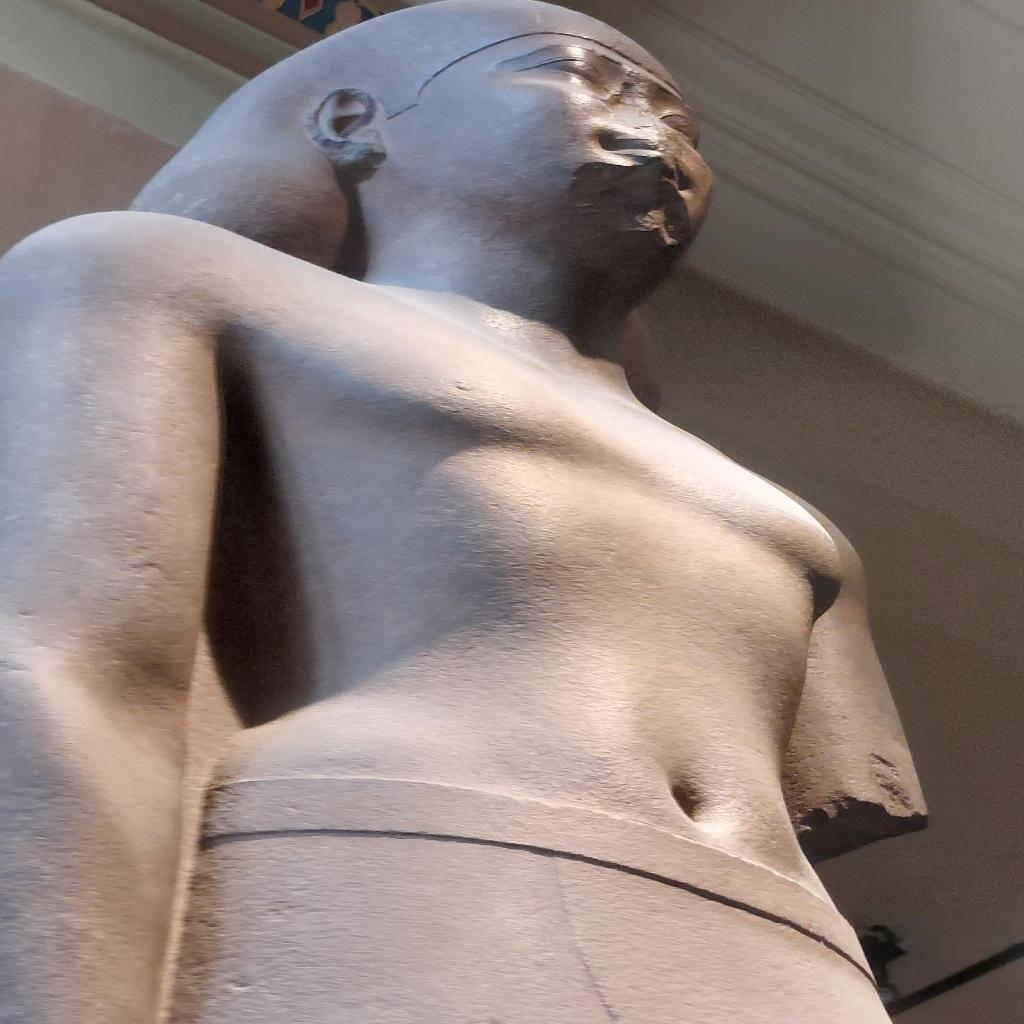Colossal Statue of Hormoheb: (5, 3, 936, 1019)
